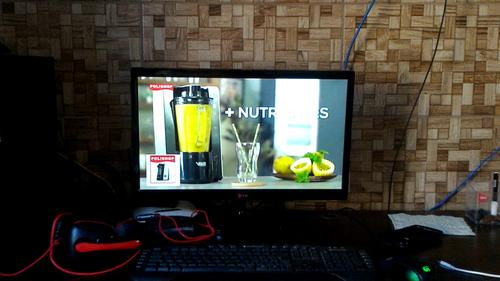Polishop #1: (145, 154, 180, 187)
